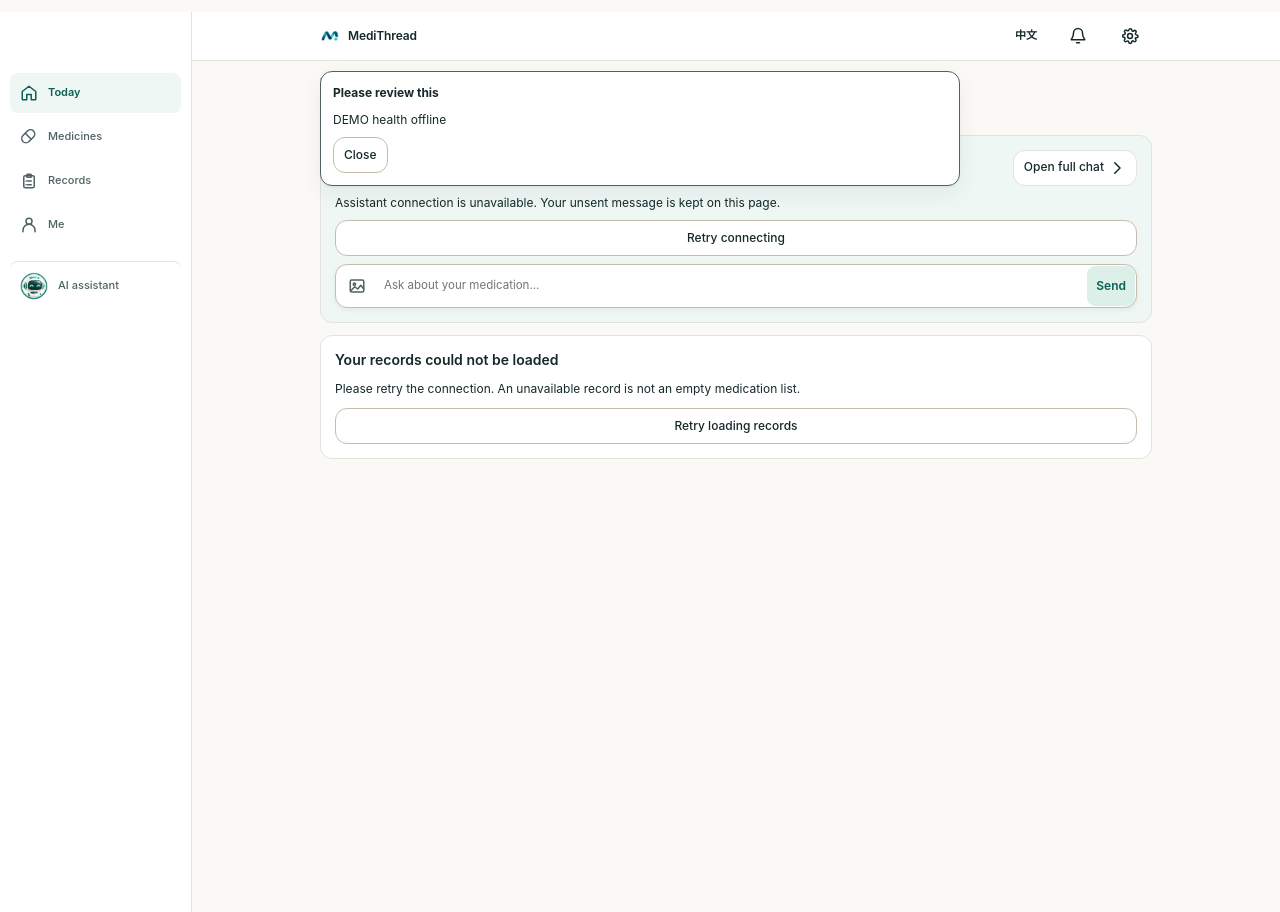
Test: clears a recovered startup failure after explicit reconnect
Click the button "Retry connecting": [736, 238] box [335,220,1137,256]
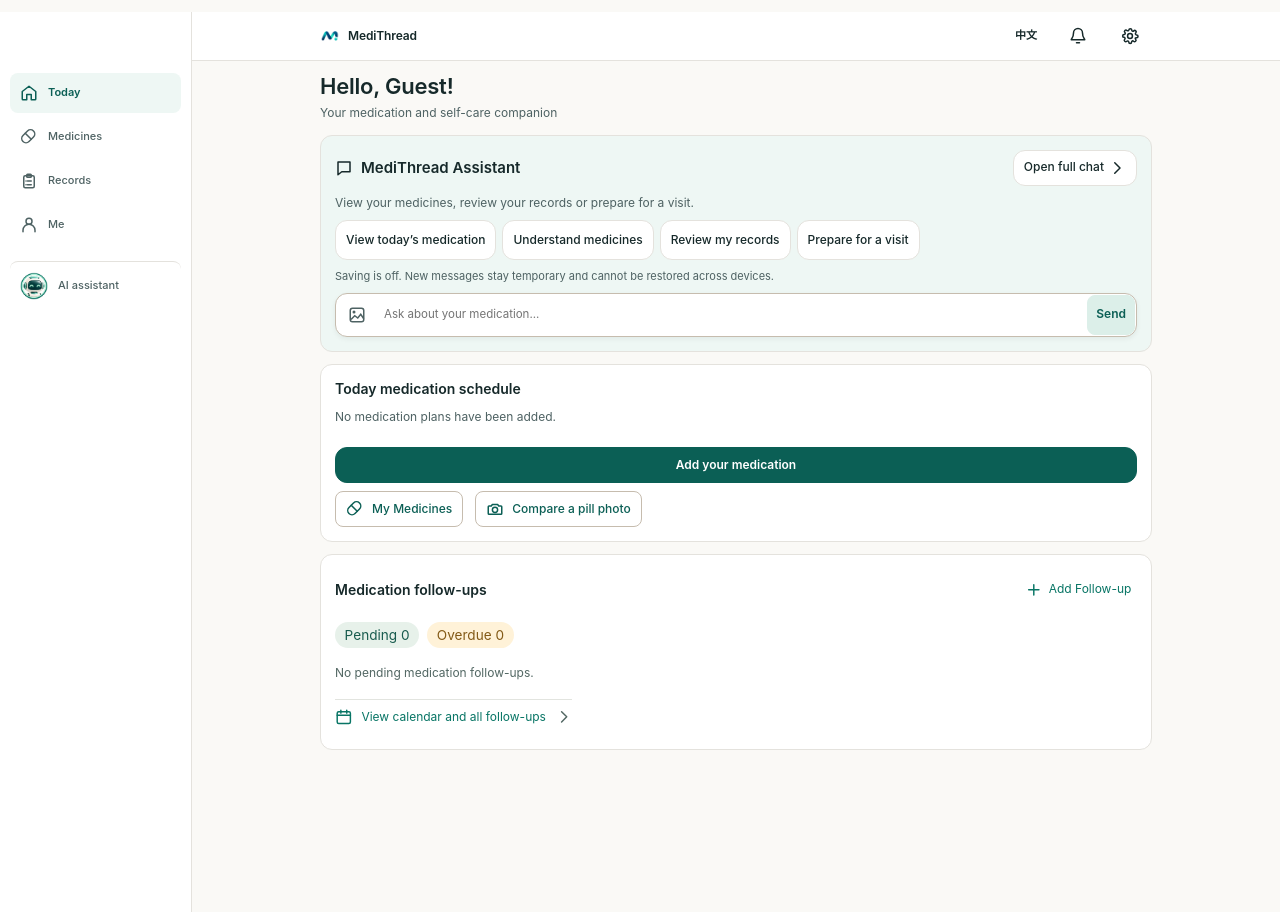
Now the text "DEMO health offline" is gone
